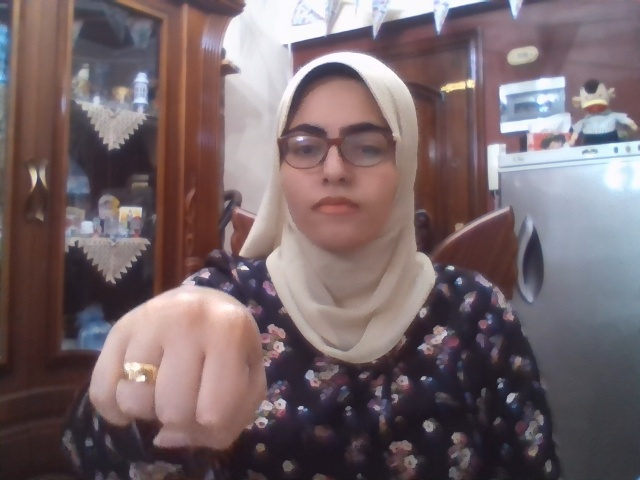yes: (89, 285, 266, 450)
